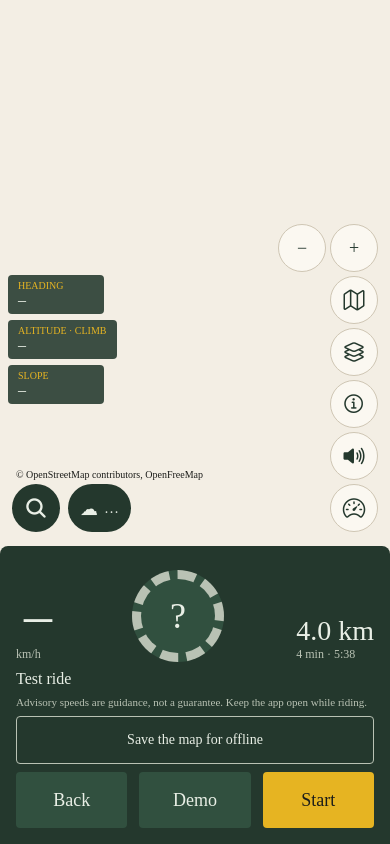
it: the skip button, its question and the undo are labelled buttons of at least 48 dp
The width and height of the screenshot is (390, 844).
Click the button "Start".
click(318, 800)  # box [263,772,374,828]
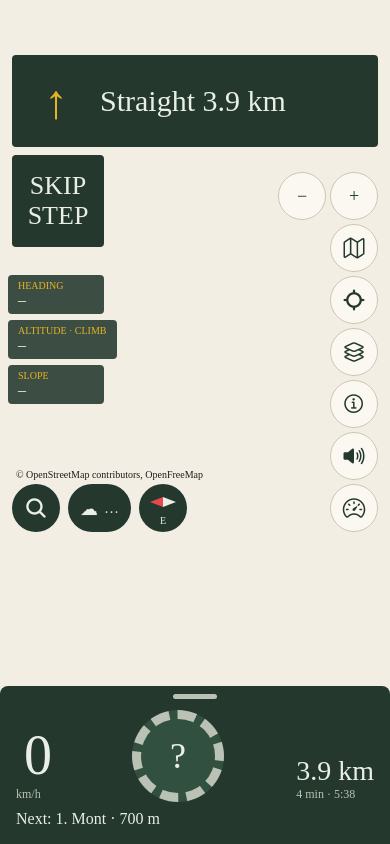
Click the button with aria-label "Skip 1. Mont".
click(58, 201)  # box [12,155,104,247]
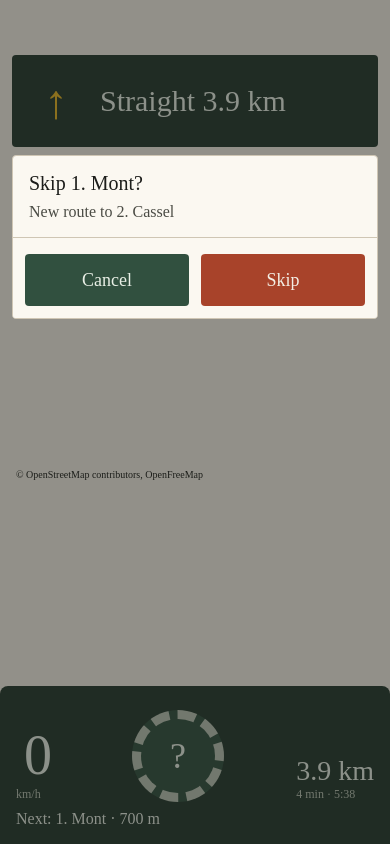
Expected: the text "Skip 1. Mont?" is shown, [29,172,143,194]
Expected: the button with aria-label "Skip 1. Mont and go to 2. Cassel" is shown, [201,254,365,306]
